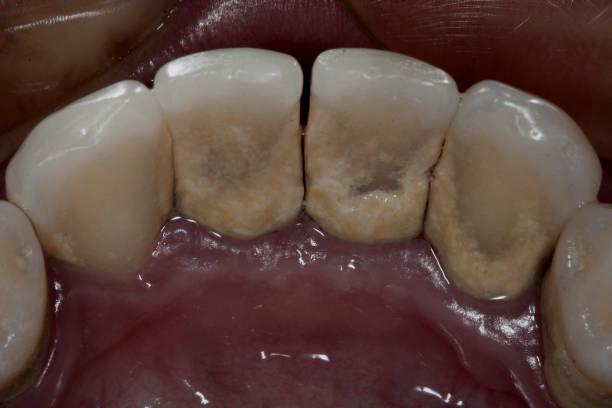Calculus: (434, 70, 606, 315), (297, 29, 462, 262), (146, 36, 318, 254), (22, 89, 198, 271)
